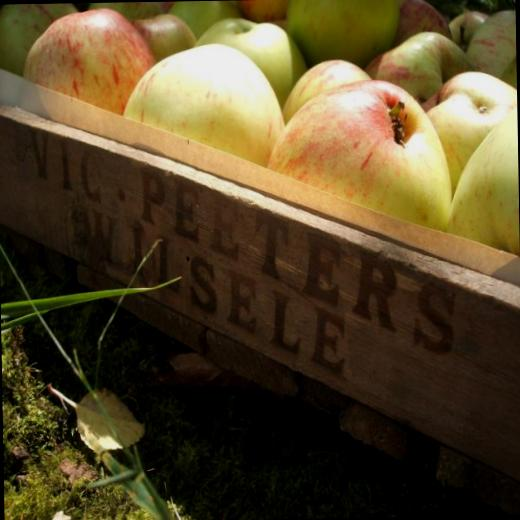Apple: (0, 0, 519, 264), (266, 76, 452, 235)
